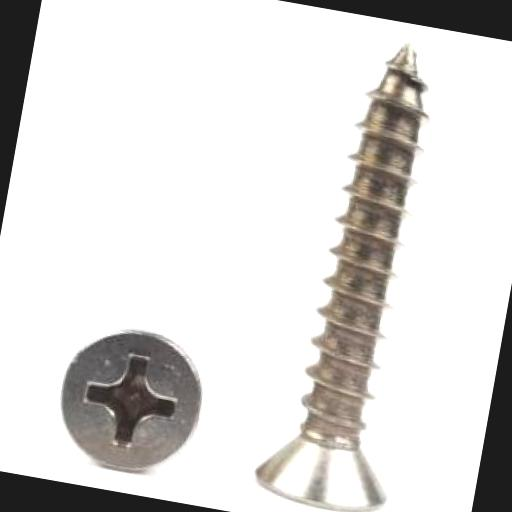Phillips: (52, 320, 214, 482)
